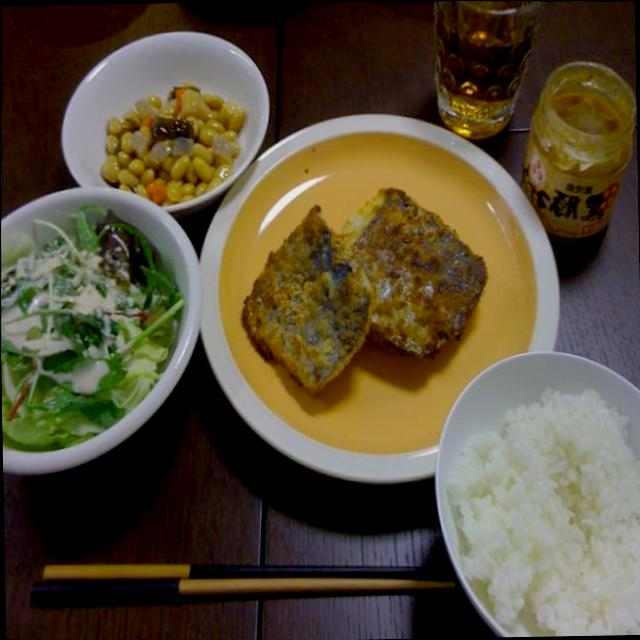Rice: (432, 340, 640, 638)
